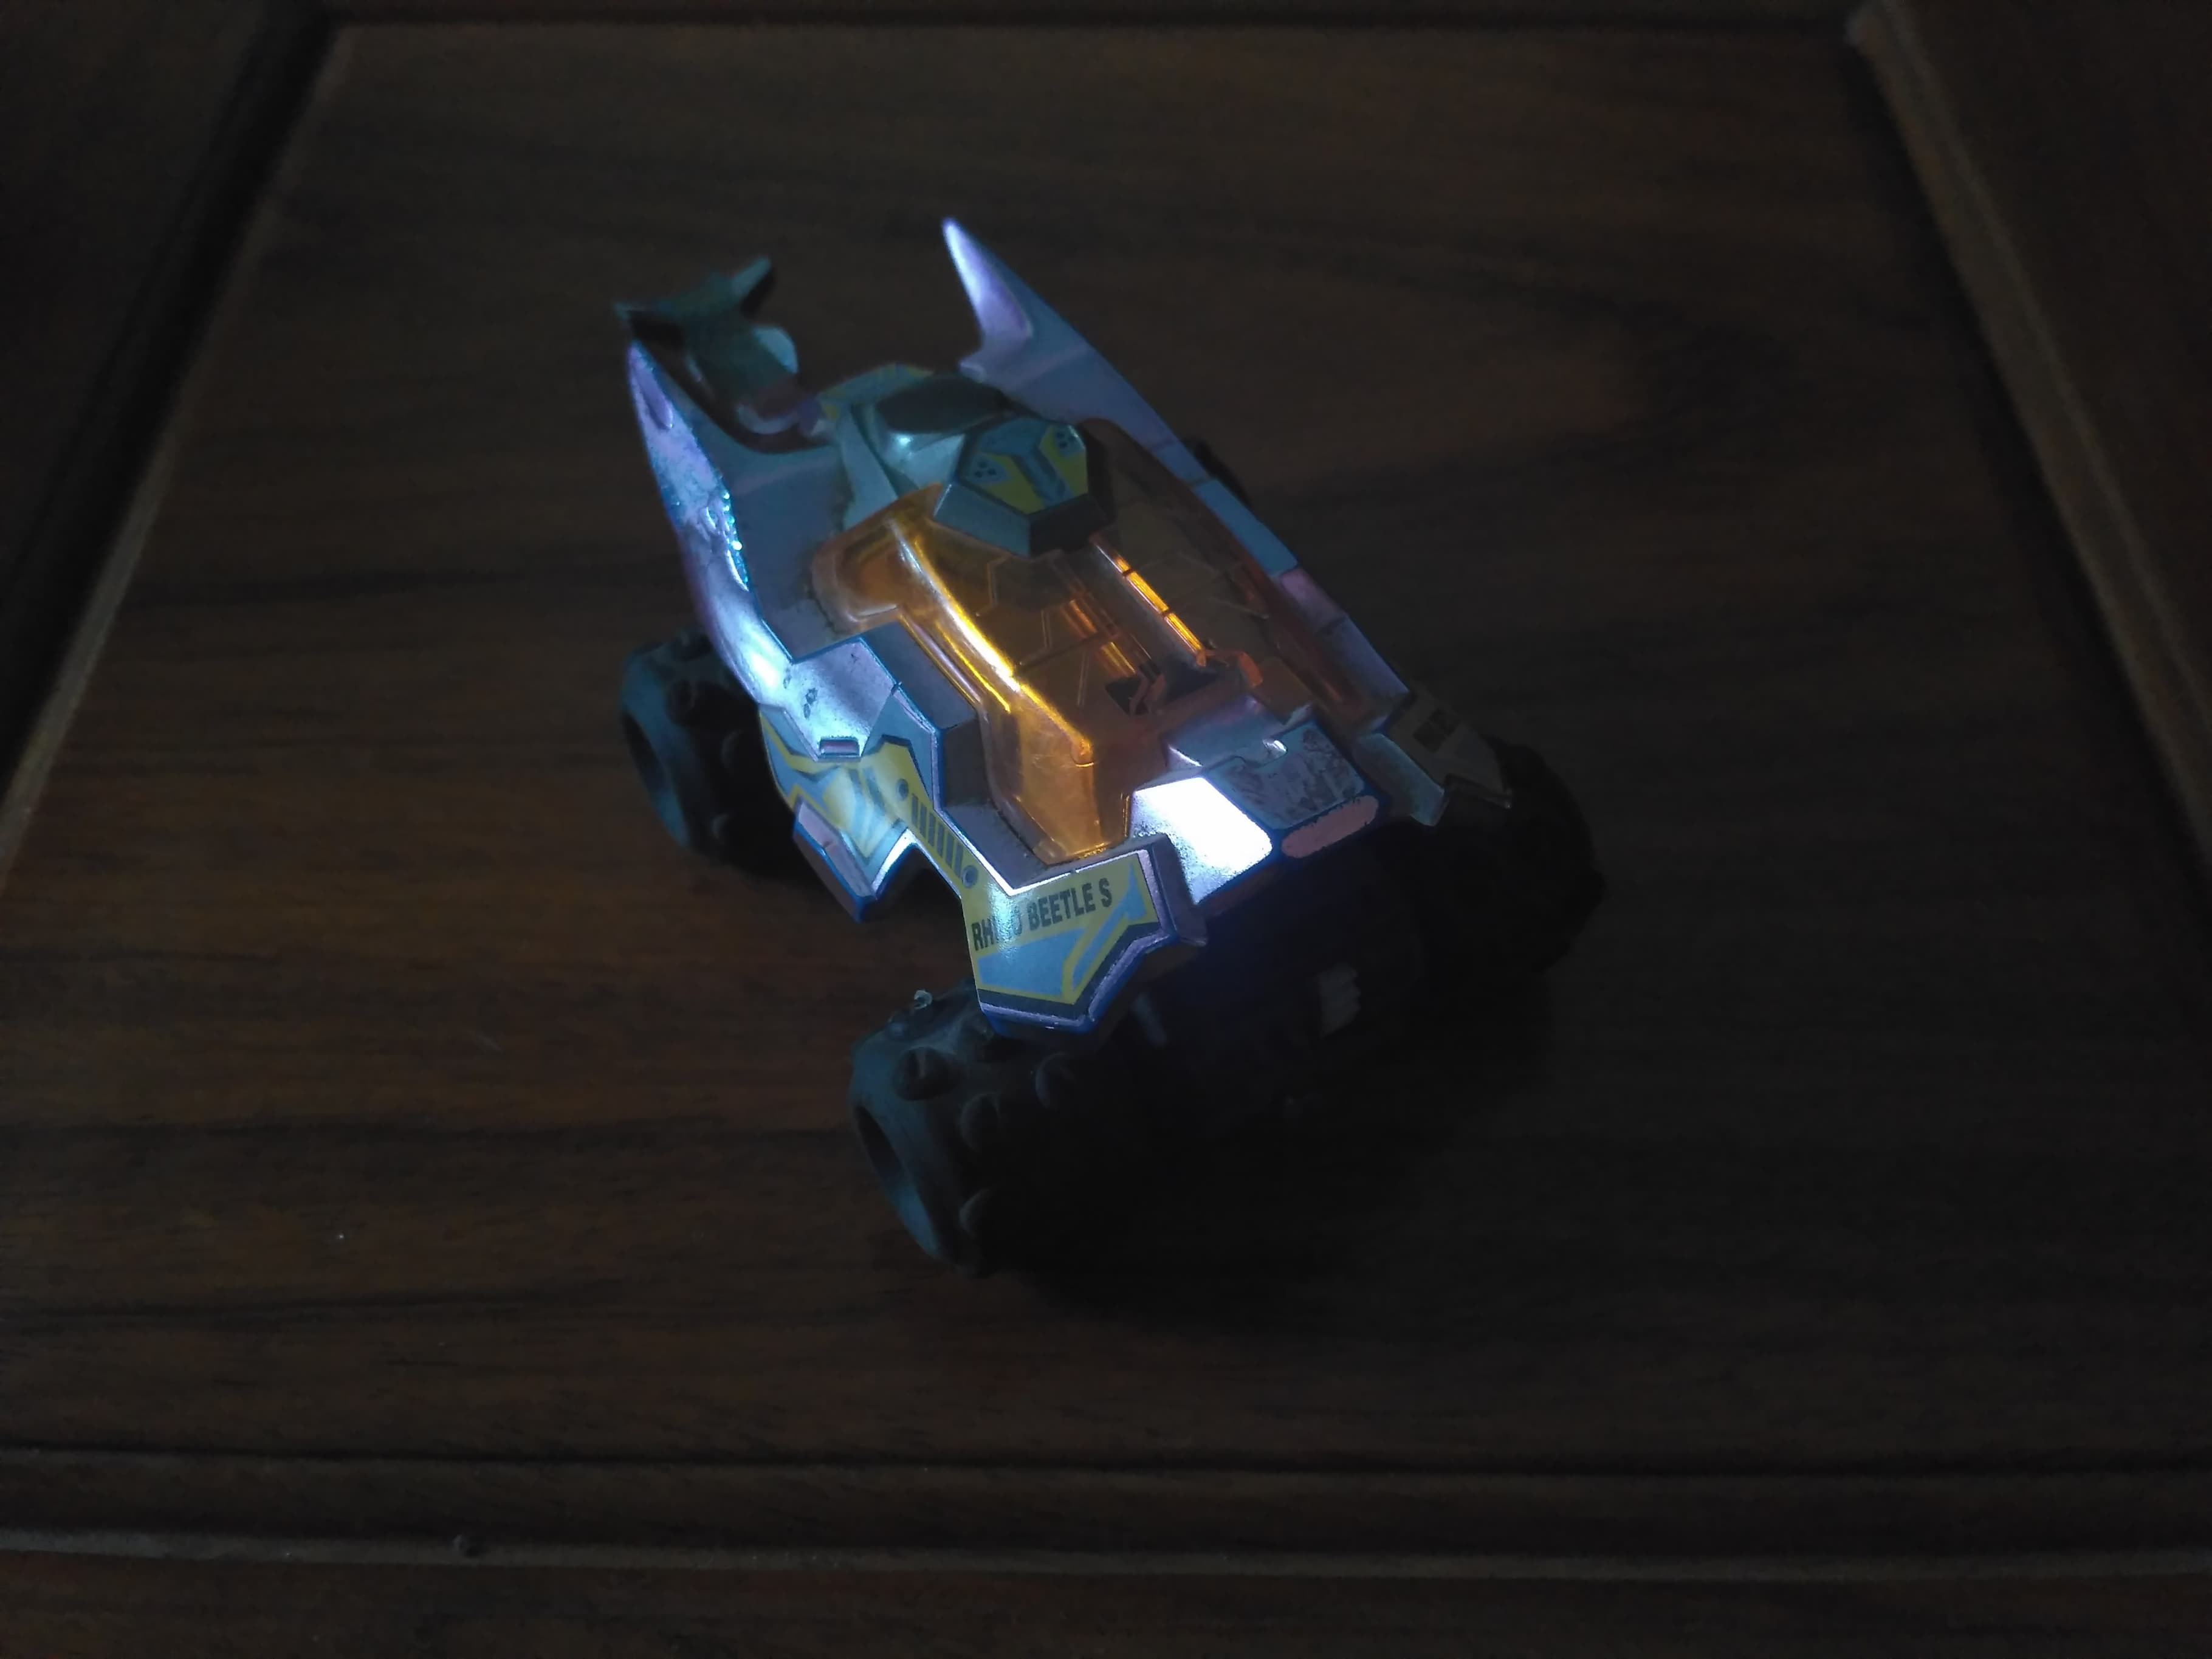rhino: (601, 211, 1616, 1279)
